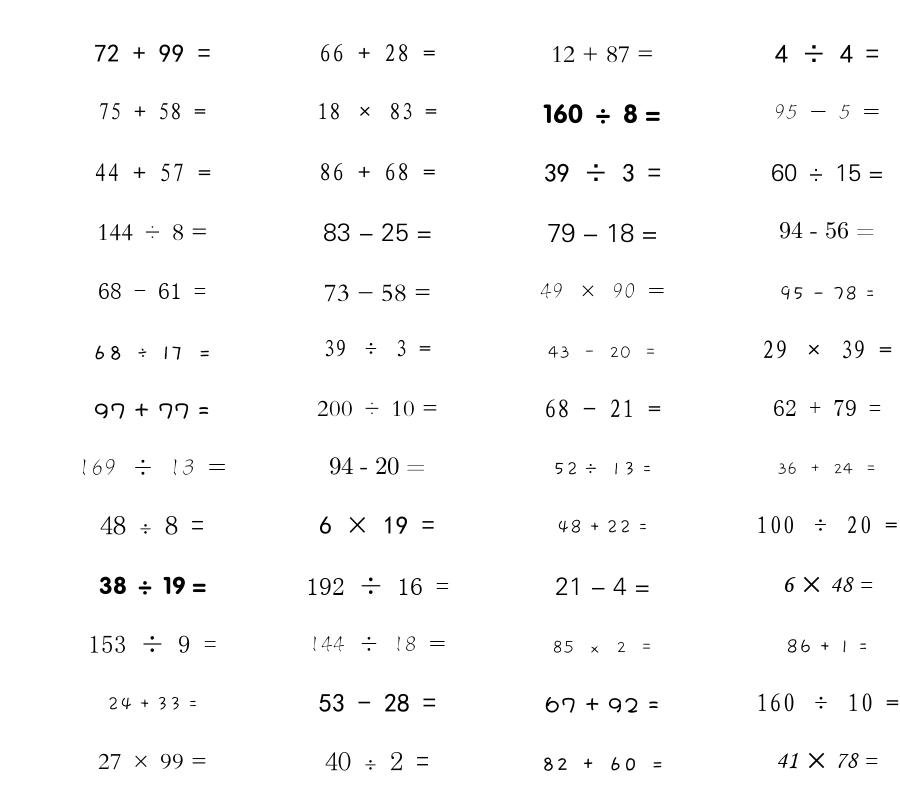MQ: (756, 693, 899, 712), (306, 577, 449, 595), (756, 516, 898, 534), (78, 459, 226, 476), (762, 340, 892, 359), (543, 104, 661, 124), (88, 635, 217, 653), (94, 163, 211, 182), (544, 163, 661, 182), (544, 399, 661, 418), (319, 693, 436, 712), (547, 223, 658, 243), (309, 636, 446, 652), (317, 102, 437, 120), (771, 163, 884, 182), (94, 44, 211, 62), (319, 44, 436, 62), (319, 163, 436, 181), (319, 516, 435, 534), (100, 515, 204, 535), (325, 751, 429, 771), (323, 223, 432, 242), (317, 400, 438, 417), (99, 576, 206, 595), (540, 283, 665, 299), (775, 44, 879, 63), (98, 102, 206, 120), (323, 339, 431, 357), (545, 696, 659, 713), (324, 284, 431, 302), (97, 224, 208, 241), (94, 403, 210, 419), (98, 753, 207, 770), (92, 345, 212, 360), (551, 46, 654, 63), (776, 752, 878, 769), (779, 221, 875, 239), (98, 283, 206, 299), (773, 400, 881, 416), (329, 457, 425, 475), (541, 757, 664, 771), (555, 577, 650, 595), (774, 104, 880, 119), (782, 576, 873, 593), (779, 285, 875, 301), (553, 461, 652, 476), (548, 346, 657, 359), (552, 640, 653, 654), (557, 519, 648, 534), (107, 696, 198, 711), (777, 462, 877, 475), (786, 639, 868, 654)
